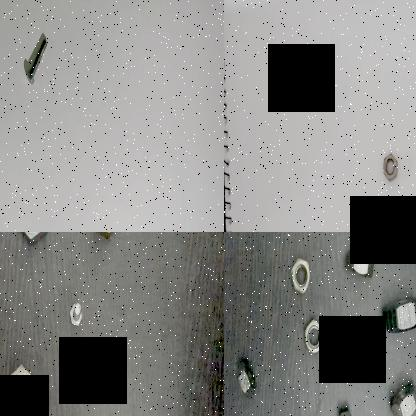Bolts: (5, 350, 35, 416), (24, 33, 51, 88), (73, 352, 95, 392), (68, 298, 86, 336)
NUTS: (381, 289, 416, 339), (300, 314, 328, 360), (348, 340, 380, 380), (344, 245, 376, 282), (234, 362, 258, 404), (290, 254, 312, 296), (389, 382, 416, 416), (381, 152, 399, 186), (335, 404, 360, 416)
